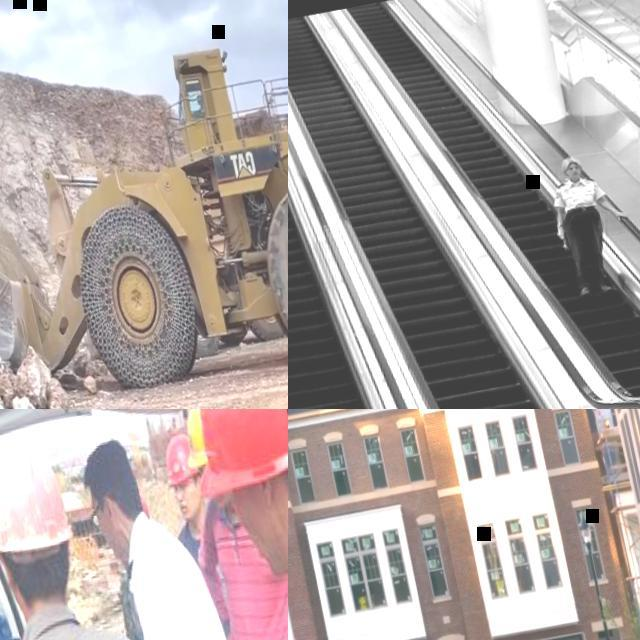Helmet: (200, 412, 289, 506), (0, 460, 79, 545), (154, 432, 200, 488), (186, 409, 210, 470)
Robbery: (81, 442, 236, 640), (0, 445, 88, 640), (199, 415, 287, 592), (553, 154, 640, 302), (157, 428, 219, 557)
